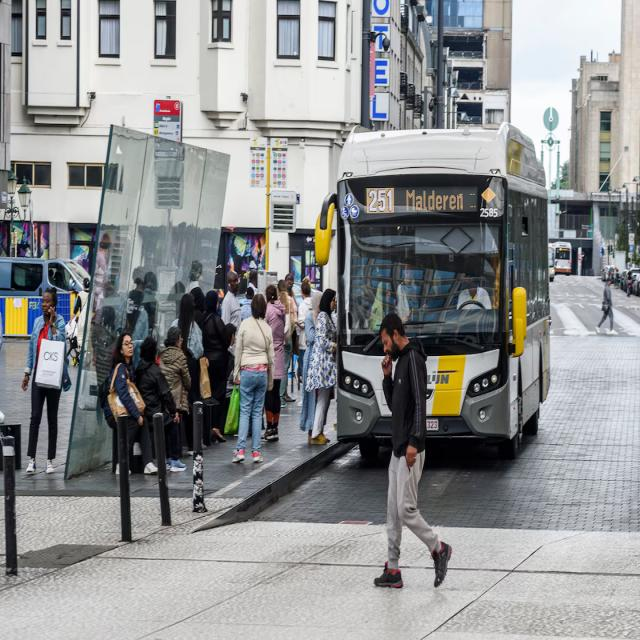bus-number: (366, 187, 394, 216)
